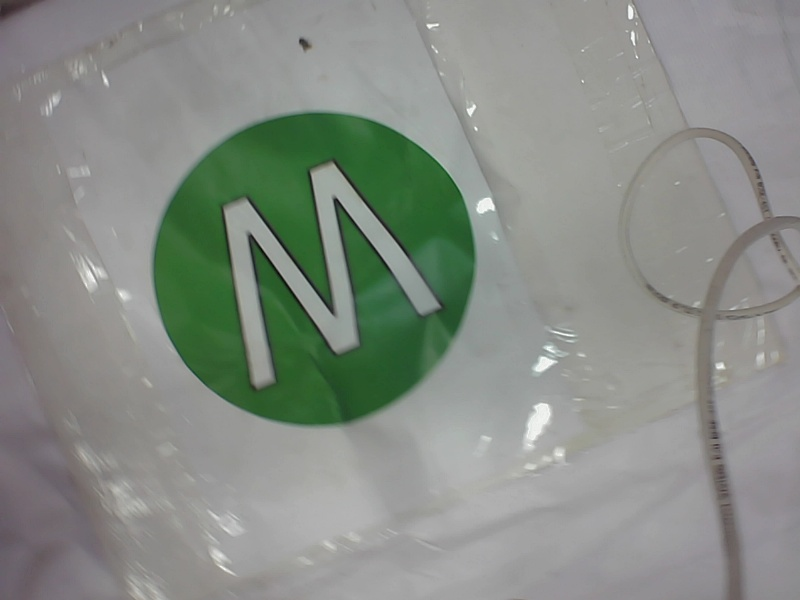areaB: (137, 103, 486, 439)
